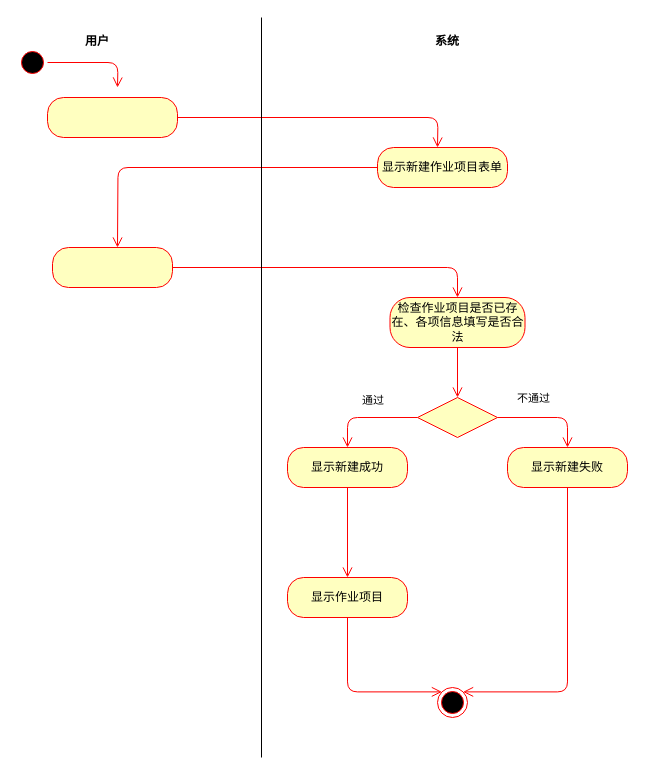
The diagram is 645 pixels wide and 775 high, and some of its shapes have lost their labels. The centre of each missing label's shape, as x and y in pixels:
"填写表单" belongs at pixel 112 267.
"请求新建作业项目" belongs at pixel 112 117.
